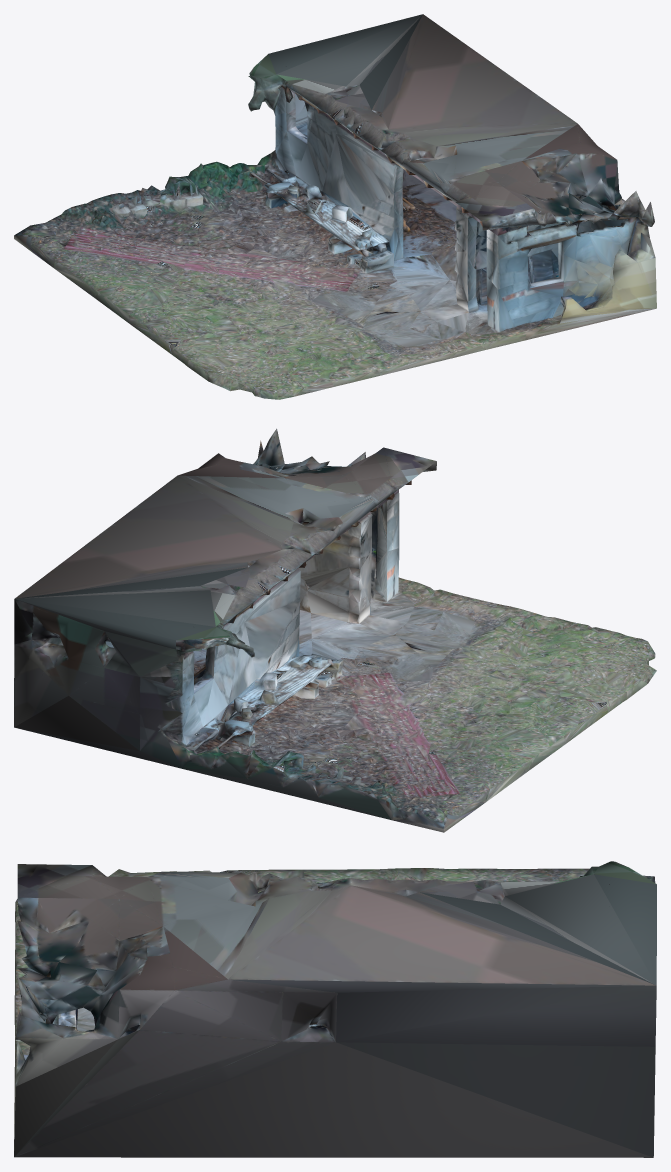
The model's file is pankatusamaja.fbx.
3 views of the same model, one above another, from view 1: azimuth 30°, elevation 25°; view 2: azimuth 150°, elevation 25°; view 3: azimuth 270°, elevation 25° (orthographic). The views are drawn at different scales.
Visible parts, largest first — view 1: Abandoned brick hut; view 2: Abandoned brick hut; view 3: Abandoned brick hut.
Boxes of the visible parts, bbox=[...] form: Abandoned brick hut: bbox=[14, 14, 656, 399]; Abandoned brick hut: bbox=[14, 428, 656, 832]; Abandoned brick hut: bbox=[14, 861, 656, 1157].
Size of the model in its own units: 9.52 by 3.07 by 9.33.
